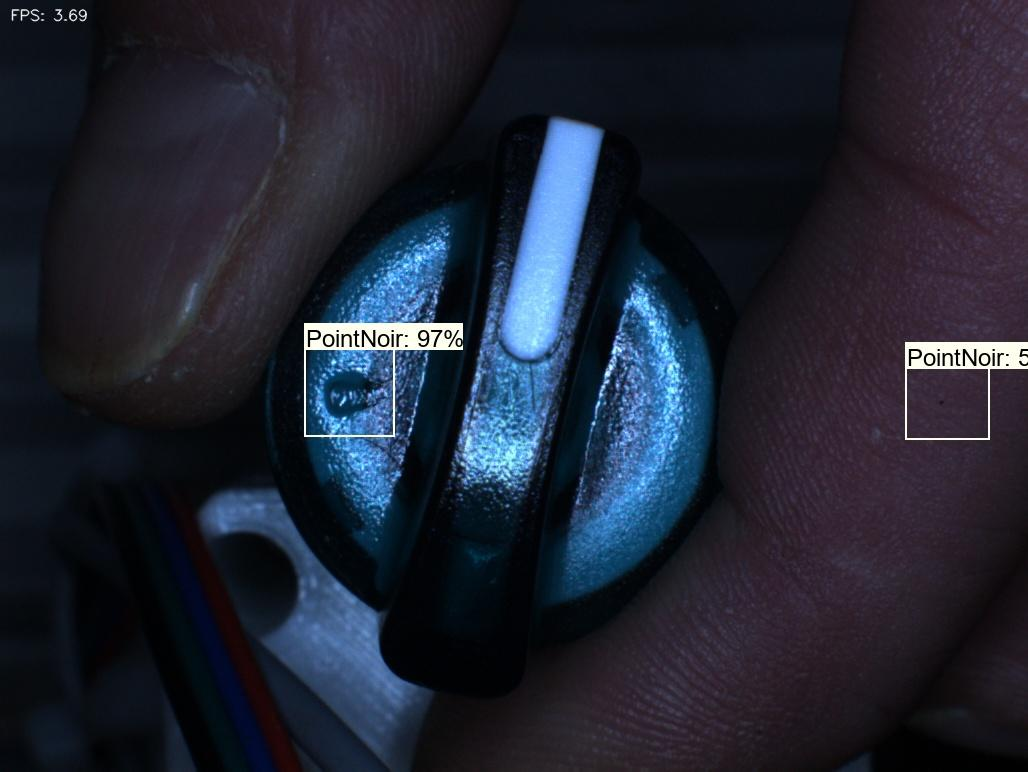Choc: (290, 345, 402, 451)
